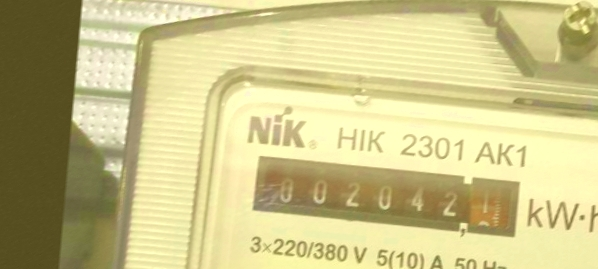0: (275, 175, 296, 206), (309, 177, 329, 209), (374, 183, 394, 214)
1: (476, 187, 492, 219)
2: (342, 181, 362, 211), (440, 189, 459, 220)
4: (407, 183, 427, 217)
screen: (246, 153, 526, 248)
